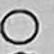no answer: (1, 9, 43, 47)
